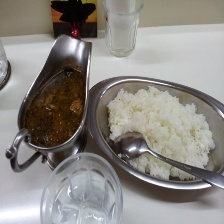sabzi: (19, 58, 87, 151)
